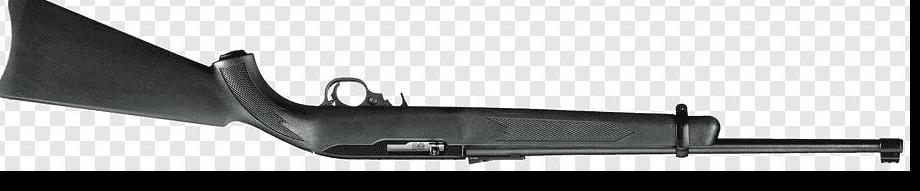larga: (0, 0, 906, 164)
